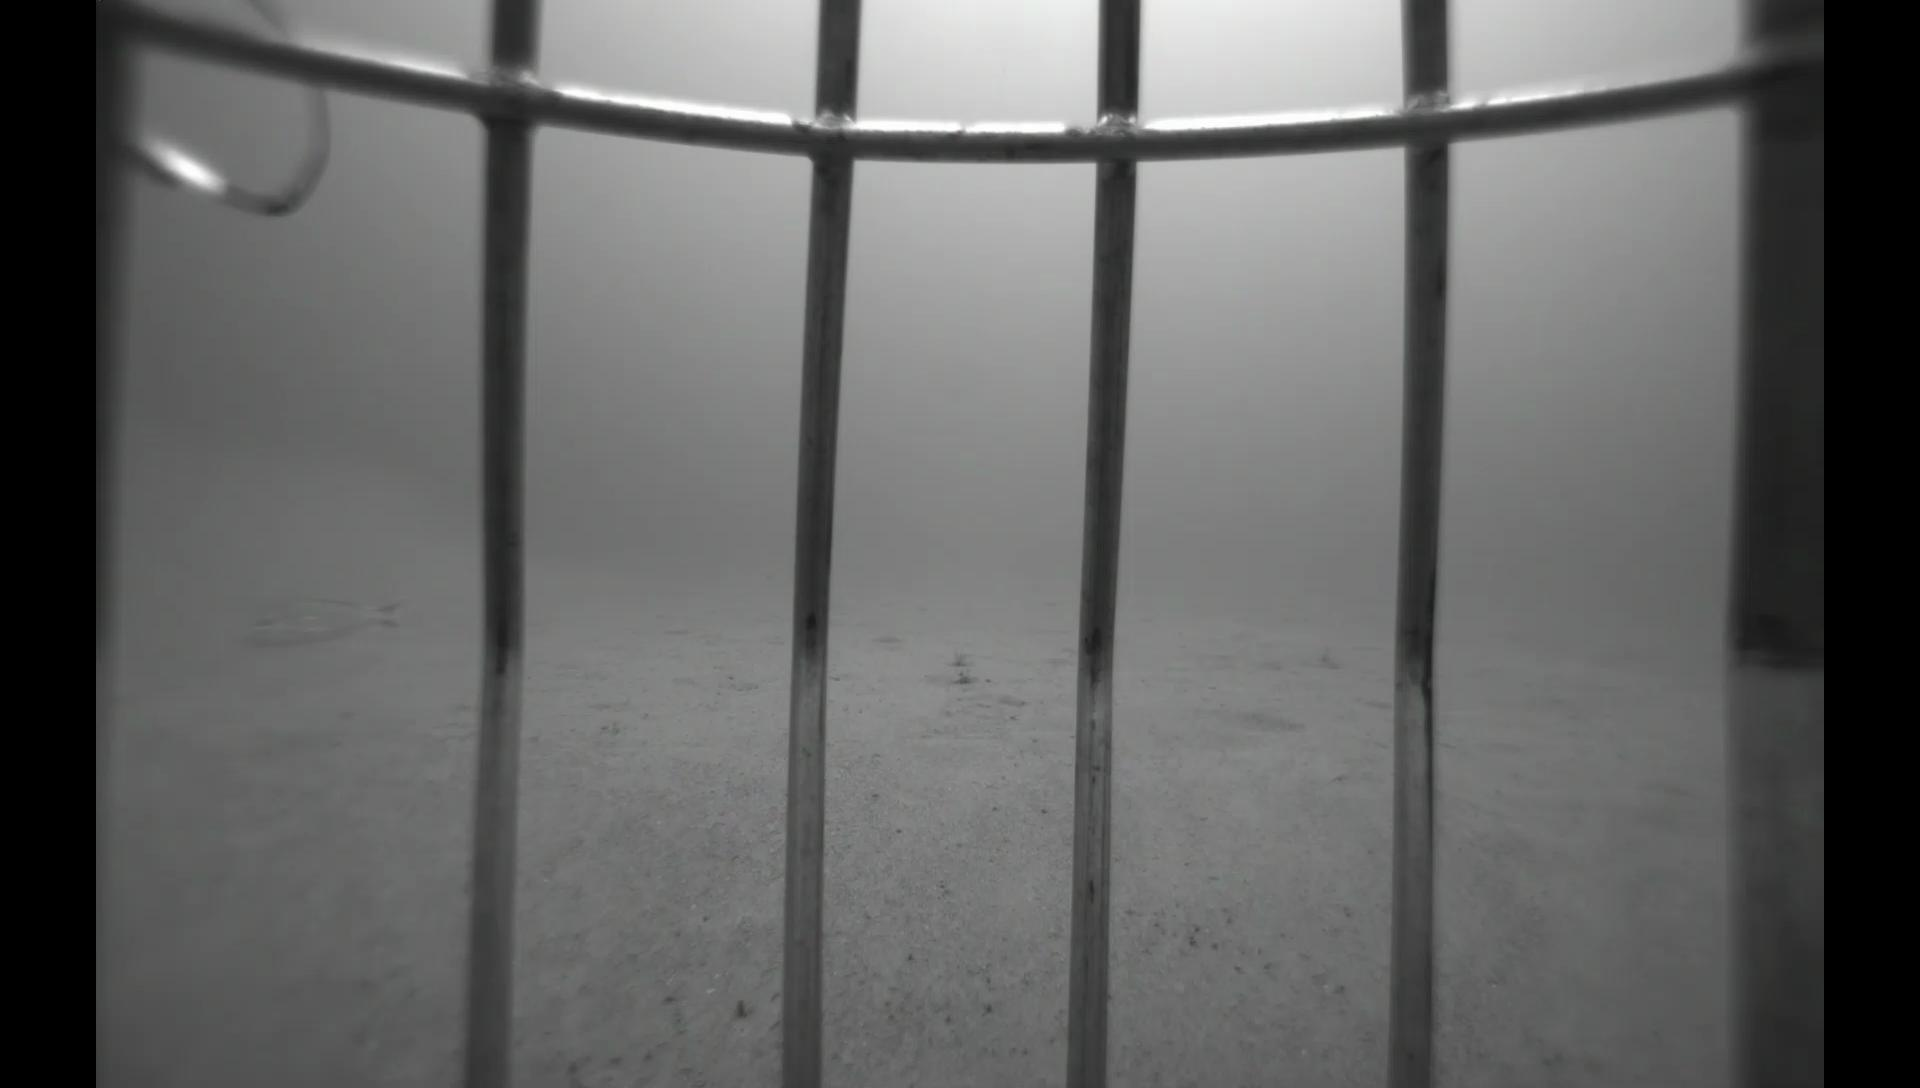CAULOLATILUSCYANOPS-170070101: (232, 591, 404, 655)
